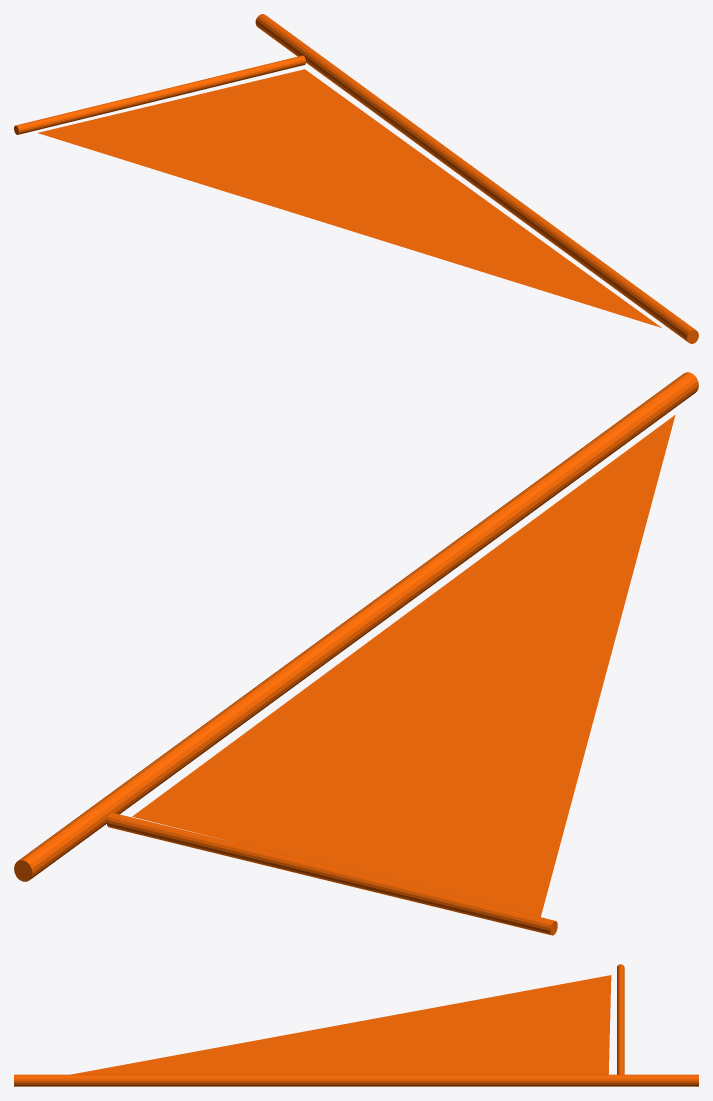
Rendered from sail.dae.
3 views of the same model, one above another, from view 1: azimuth 30°, elevation 25°; view 2: azimuth 150°, elevation 25°; view 3: azimuth 270°, elevation 25° (orthographic). The views are drawn at different scales.
Parts seen in each view (by area): view 1: node; view 2: node; view 3: node.
Boxes of the visible parts, left/top/right/bottom form: node: left=14, top=14, right=698, bottom=343; node: left=14, top=372, right=698, bottom=935; node: left=14, top=964, right=698, bottom=1086.
Bounding box in the file's own units: 0.5449 × 0.0242 × 1.36.
1 material, 1 textured.
